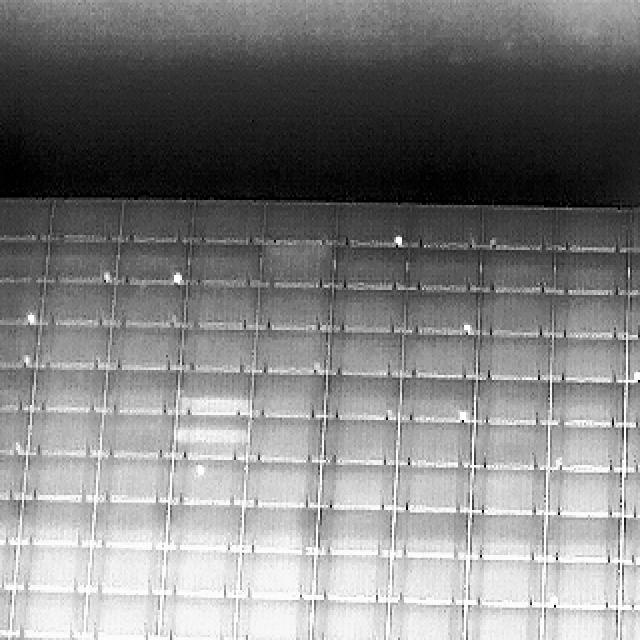Hotspots: (460, 318, 476, 336), (168, 269, 184, 286), (25, 308, 40, 326), (193, 462, 208, 479), (456, 405, 468, 423), (22, 355, 36, 368), (548, 592, 561, 606), (101, 270, 112, 284), (393, 233, 404, 246), (630, 368, 640, 382)
PV-modules: (162, 548, 240, 598), (394, 511, 472, 561), (18, 496, 94, 546), (88, 546, 164, 596), (8, 589, 82, 640), (389, 555, 466, 604), (469, 514, 544, 564), (542, 518, 620, 566), (240, 504, 318, 552), (540, 560, 618, 608), (82, 592, 160, 640), (470, 380, 548, 428), (240, 548, 314, 598), (550, 334, 624, 384), (250, 368, 324, 418), (320, 417, 397, 465), (469, 422, 546, 470), (470, 468, 545, 517), (465, 558, 540, 607), (480, 249, 558, 296), (401, 248, 479, 295), (399, 204, 484, 247), (105, 364, 178, 414), (94, 458, 170, 506), (180, 326, 256, 374), (90, 500, 166, 548), (166, 501, 242, 549), (313, 554, 392, 600), (14, 544, 88, 593), (474, 333, 551, 380), (156, 595, 236, 640), (394, 466, 469, 514), (316, 506, 391, 554), (180, 281, 258, 327), (182, 242, 260, 288), (545, 471, 621, 518), (478, 289, 554, 336), (34, 323, 110, 370), (23, 456, 97, 504), (328, 284, 402, 332), (259, 241, 333, 289), (399, 418, 470, 468), (323, 372, 400, 418), (547, 424, 622, 471), (554, 291, 629, 338), (29, 364, 104, 411), (248, 416, 321, 464), (332, 244, 405, 292), (318, 464, 392, 511), (404, 285, 478, 332), (106, 326, 180, 372), (186, 200, 263, 244), (45, 239, 117, 286), (244, 463, 319, 508), (99, 413, 174, 458), (25, 411, 100, 456), (554, 206, 630, 250), (552, 382, 624, 428), (253, 329, 325, 375), (400, 374, 469, 422), (555, 252, 630, 296), (108, 280, 181, 325), (255, 284, 328, 329), (234, 597, 310, 640), (401, 332, 472, 378), (119, 240, 187, 288), (173, 415, 247, 459), (38, 279, 112, 323), (176, 368, 250, 412), (172, 460, 244, 505), (124, 199, 196, 244), (486, 206, 561, 249), (47, 198, 120, 242), (329, 332, 405, 374), (260, 202, 336, 244), (308, 600, 386, 640), (333, 202, 402, 244), (388, 602, 464, 640), (536, 605, 614, 640), (464, 605, 538, 640), (0, 238, 45, 288), (0, 198, 49, 239), (0, 280, 42, 326), (0, 322, 37, 368), (0, 364, 32, 411), (0, 409, 28, 456), (0, 485, 20, 545), (0, 450, 22, 498), (620, 470, 640, 518), (622, 562, 640, 610), (622, 422, 640, 470), (616, 605, 640, 640), (0, 540, 16, 591), (624, 520, 640, 568), (626, 292, 640, 340), (626, 382, 640, 428), (630, 337, 640, 385), (630, 253, 640, 295), (78, 635, 156, 640), (632, 205, 640, 253), (4, 635, 78, 640), (152, 637, 230, 640)
